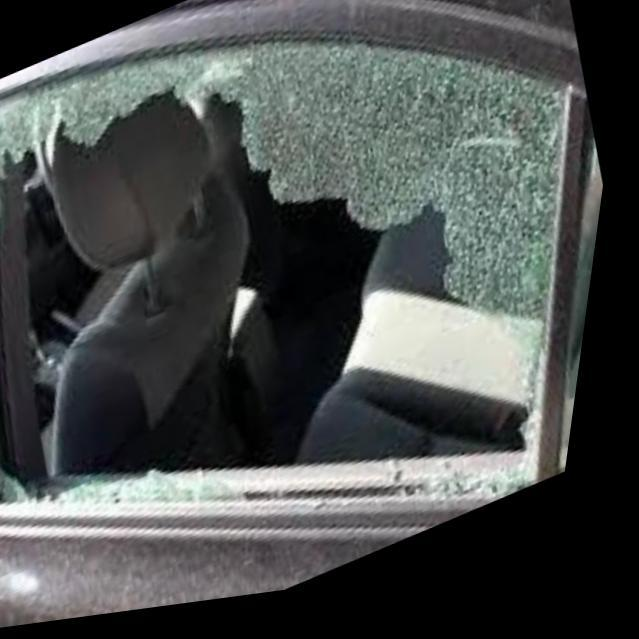glass shatter: (0, 25, 579, 540)
